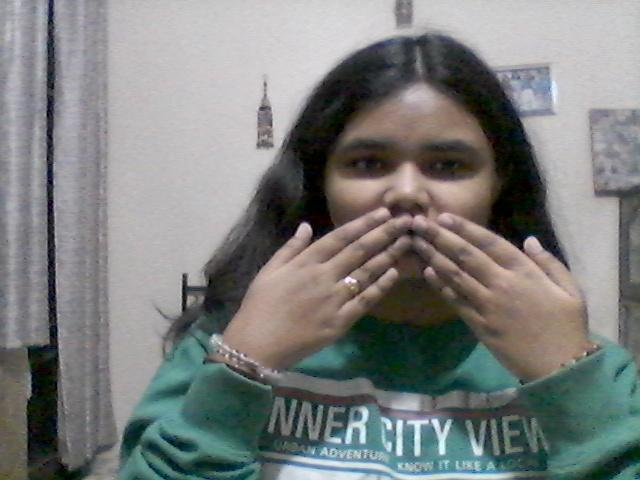thank you: (212, 200, 595, 388)
